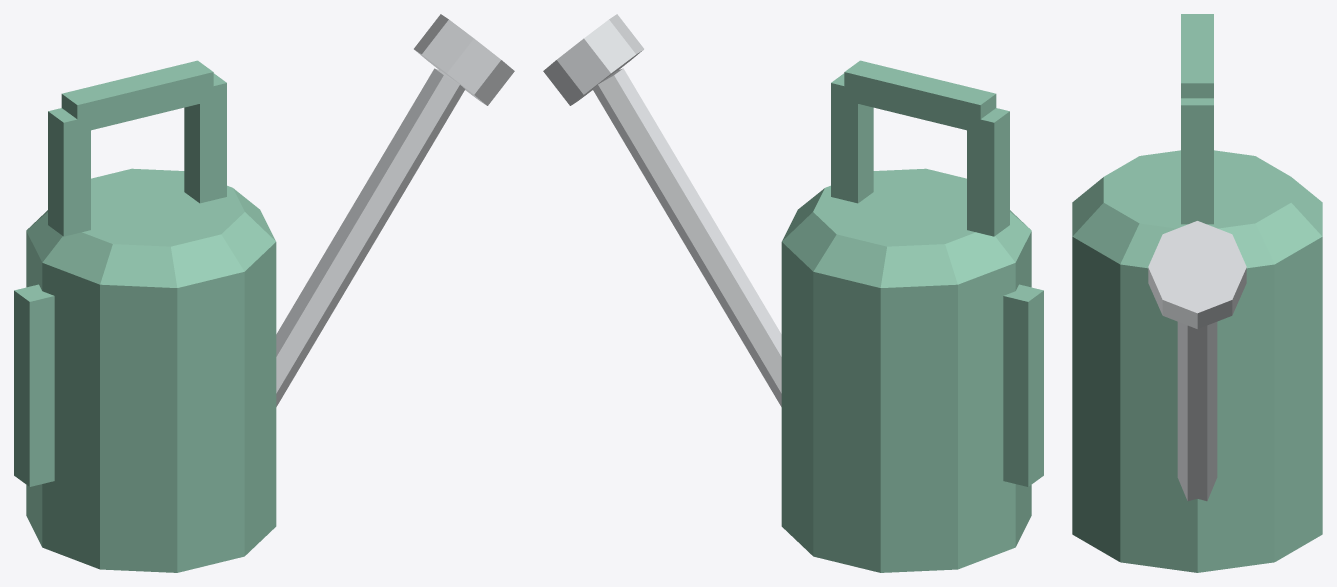
The model's file is watering_can.glb.
3 views of the same model, side by side, from view 1: azimuth 30°, elevation 25°; view 2: azimuth 150°, elevation 25°; view 3: azimuth 270°, elevation 25° (orthographic). The views are drawn at different scales.
Bounding box in the file's own units: 0.3562 × 0.31 × 0.1522.
